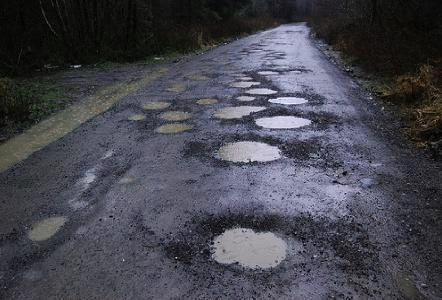pothole: (200, 215, 298, 269), (208, 136, 288, 164), (251, 110, 315, 129), (25, 212, 69, 239), (210, 102, 266, 119), (153, 120, 197, 133), (264, 93, 309, 105), (156, 109, 192, 120), (137, 99, 172, 109), (226, 79, 261, 87), (242, 86, 275, 94), (256, 67, 280, 74), (194, 95, 217, 102)
